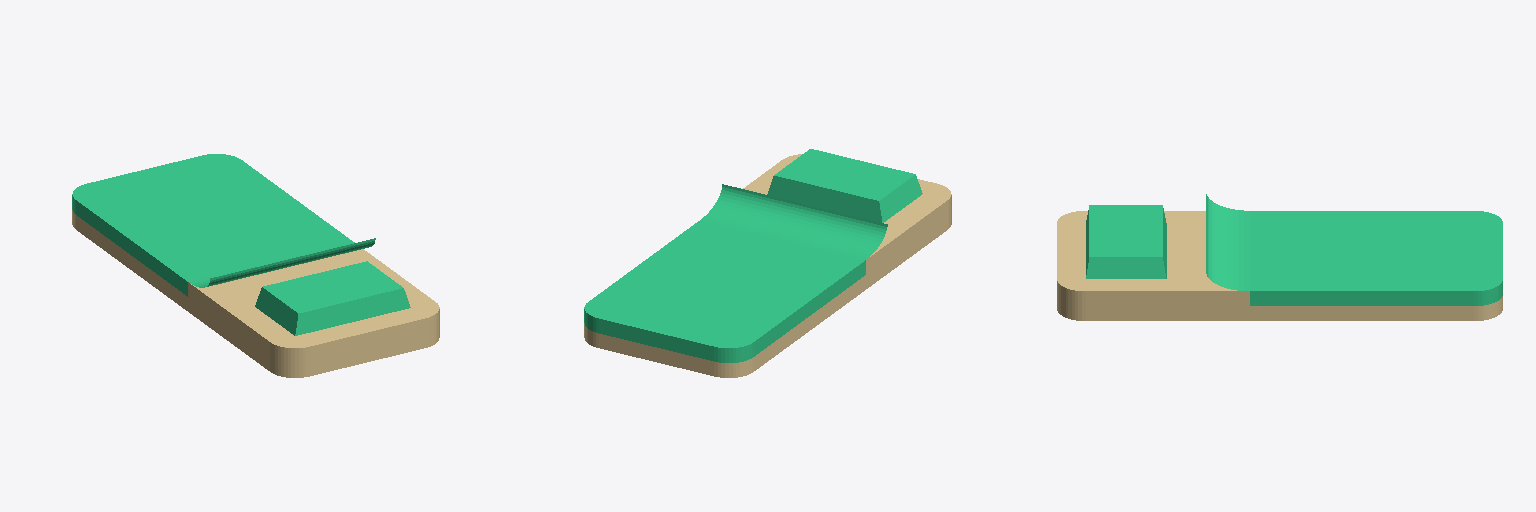
File: bedroll.obj
3 views of the same model, side by side, from view 1: azimuth 30°, elevation 25°; view 2: azimuth 150°, elevation 25°; view 3: azimuth 270°, elevation 25° (orthographic).
Visible parts, largest first — view 1: bedroll; view 2: bedroll; view 3: bedroll.
Part boxes in pixels (x1,y1,x2,y2): bedroll: (72,154,439,377); bedroll: (584,149,951,377); bedroll: (1057,194,1502,320).
Size of the model in its own units: 0.2604 by 0.0748 by 0.6076.